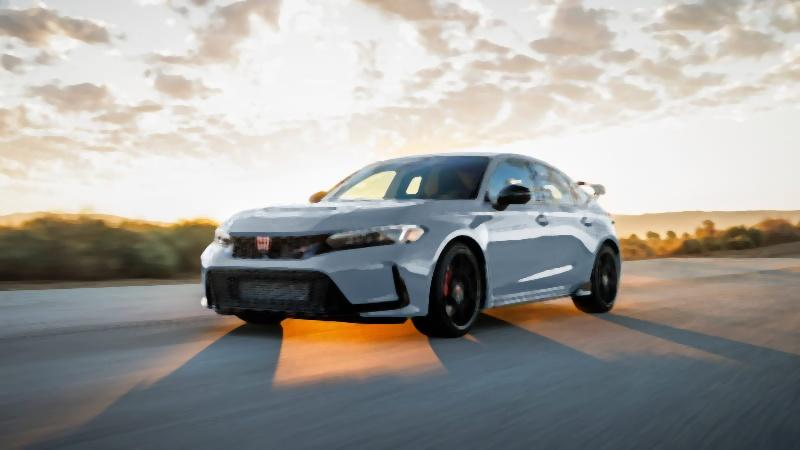Car hood: (218, 195, 483, 234)
Fender - -F-L-: (426, 199, 496, 315)
Front bumper: (189, 249, 437, 322)
Headlight - -L-: (322, 220, 433, 254)
Headlight - -R-: (206, 218, 240, 257)
Passenger-s door - -F-L-: (485, 152, 551, 299)
Passenger-s door - -R-L-: (542, 162, 602, 292)
Side bumper - -L-: (480, 279, 598, 314)
Side mirror - -L-: (492, 181, 535, 215)
Side mirror - -R-: (306, 182, 335, 206)
